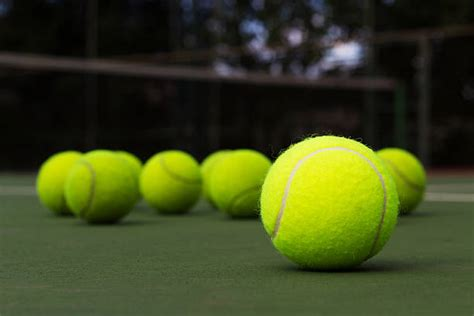tennis_ball: (258, 134, 400, 270), (65, 151, 140, 223), (209, 147, 273, 216), (139, 148, 204, 213), (371, 146, 428, 215), (35, 150, 89, 215), (200, 149, 232, 204), (114, 149, 145, 199)
